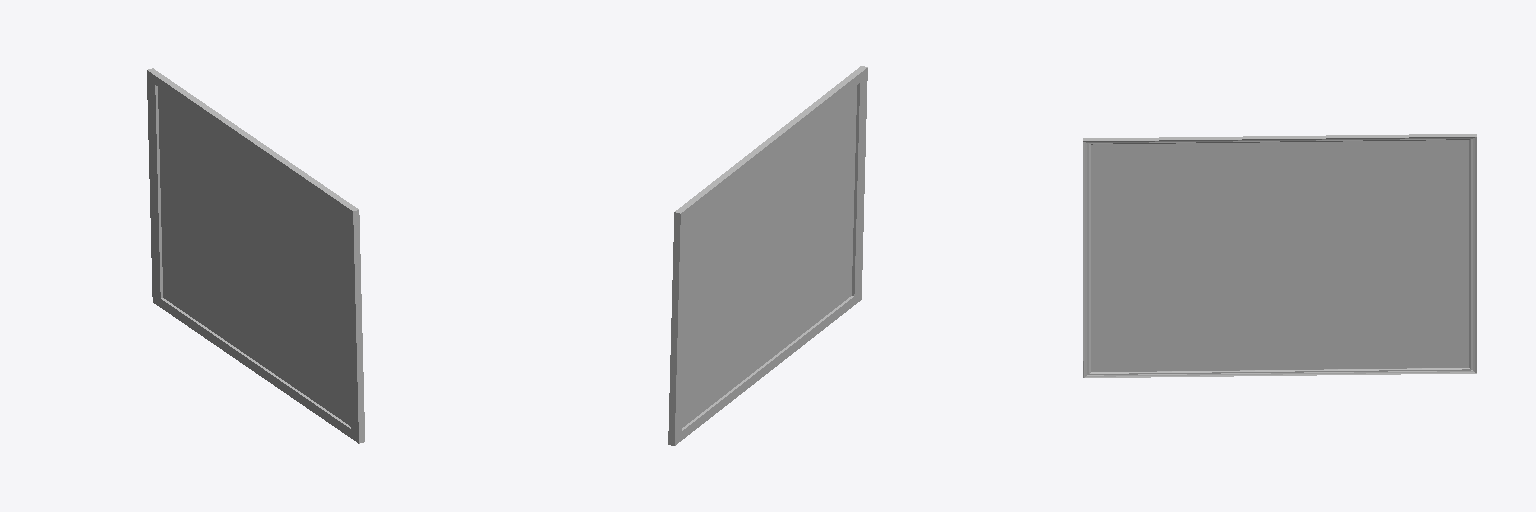
File: frame3.obj
The picture shows the model from 3 angles: view 1: azimuth 30°, elevation 25°; view 2: azimuth 150°, elevation 25°; view 3: azimuth 270°, elevation 25°; orthographic projection.
Parts seen in each view (by area): view 1: frontFace, paintingFrame; view 2: frontFace, paintingFrame; view 3: frontFace, paintingFrame.
Part boxes in pixels (x1,y1,x2,y2): frontFace: (158,87,349,425); paintingFrame: (147,68,364,443); frontFace: (682,85,856,427); paintingFrame: (668,66,867,445); frontFace: (1091,140,1468,371); paintingFrame: (1083,134,1476,377).
Bounding box in the file's own units: 0.7748 × 7.85 × 11.98.